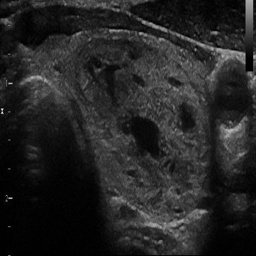mass: (71, 34, 206, 223)
